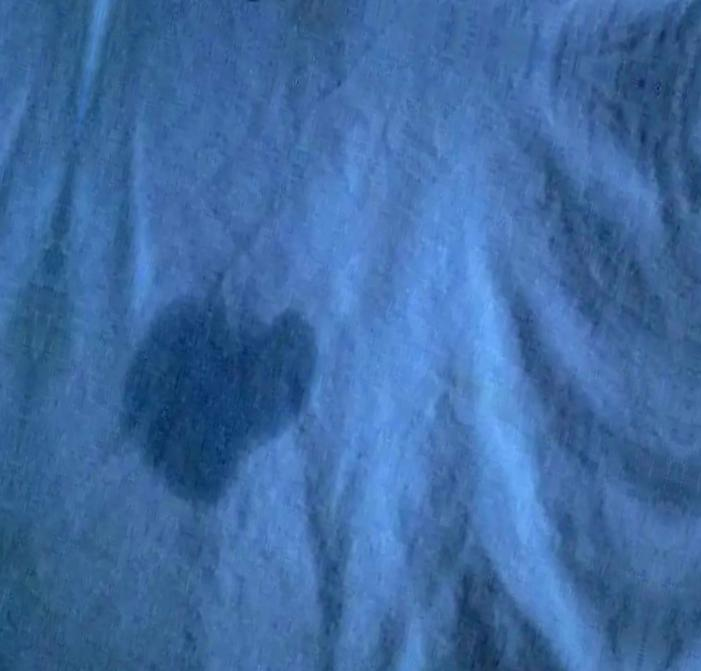stain: (111, 292, 321, 510)
